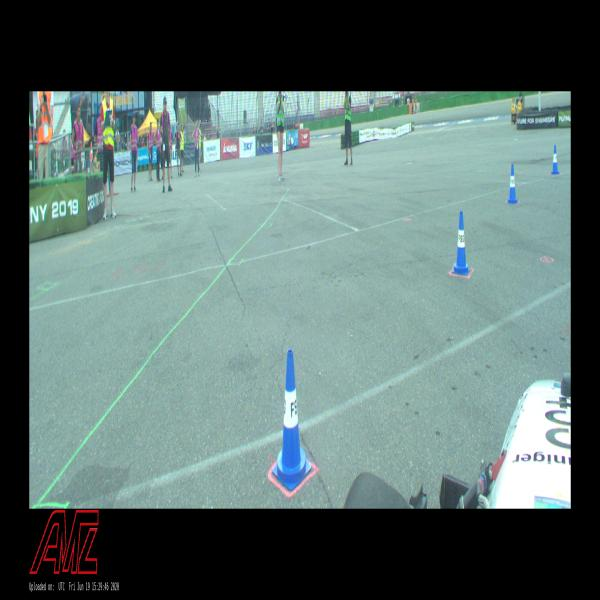blue_cone: (272, 349, 312, 492), (454, 213, 468, 274), (507, 164, 517, 203), (550, 145, 560, 175)
